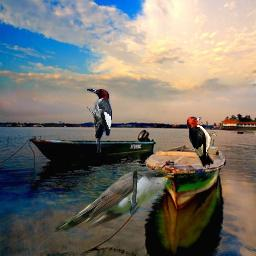Cuckoo: (50, 167, 174, 232)
Woodpecker: (186, 116, 218, 168), (87, 88, 112, 153)
